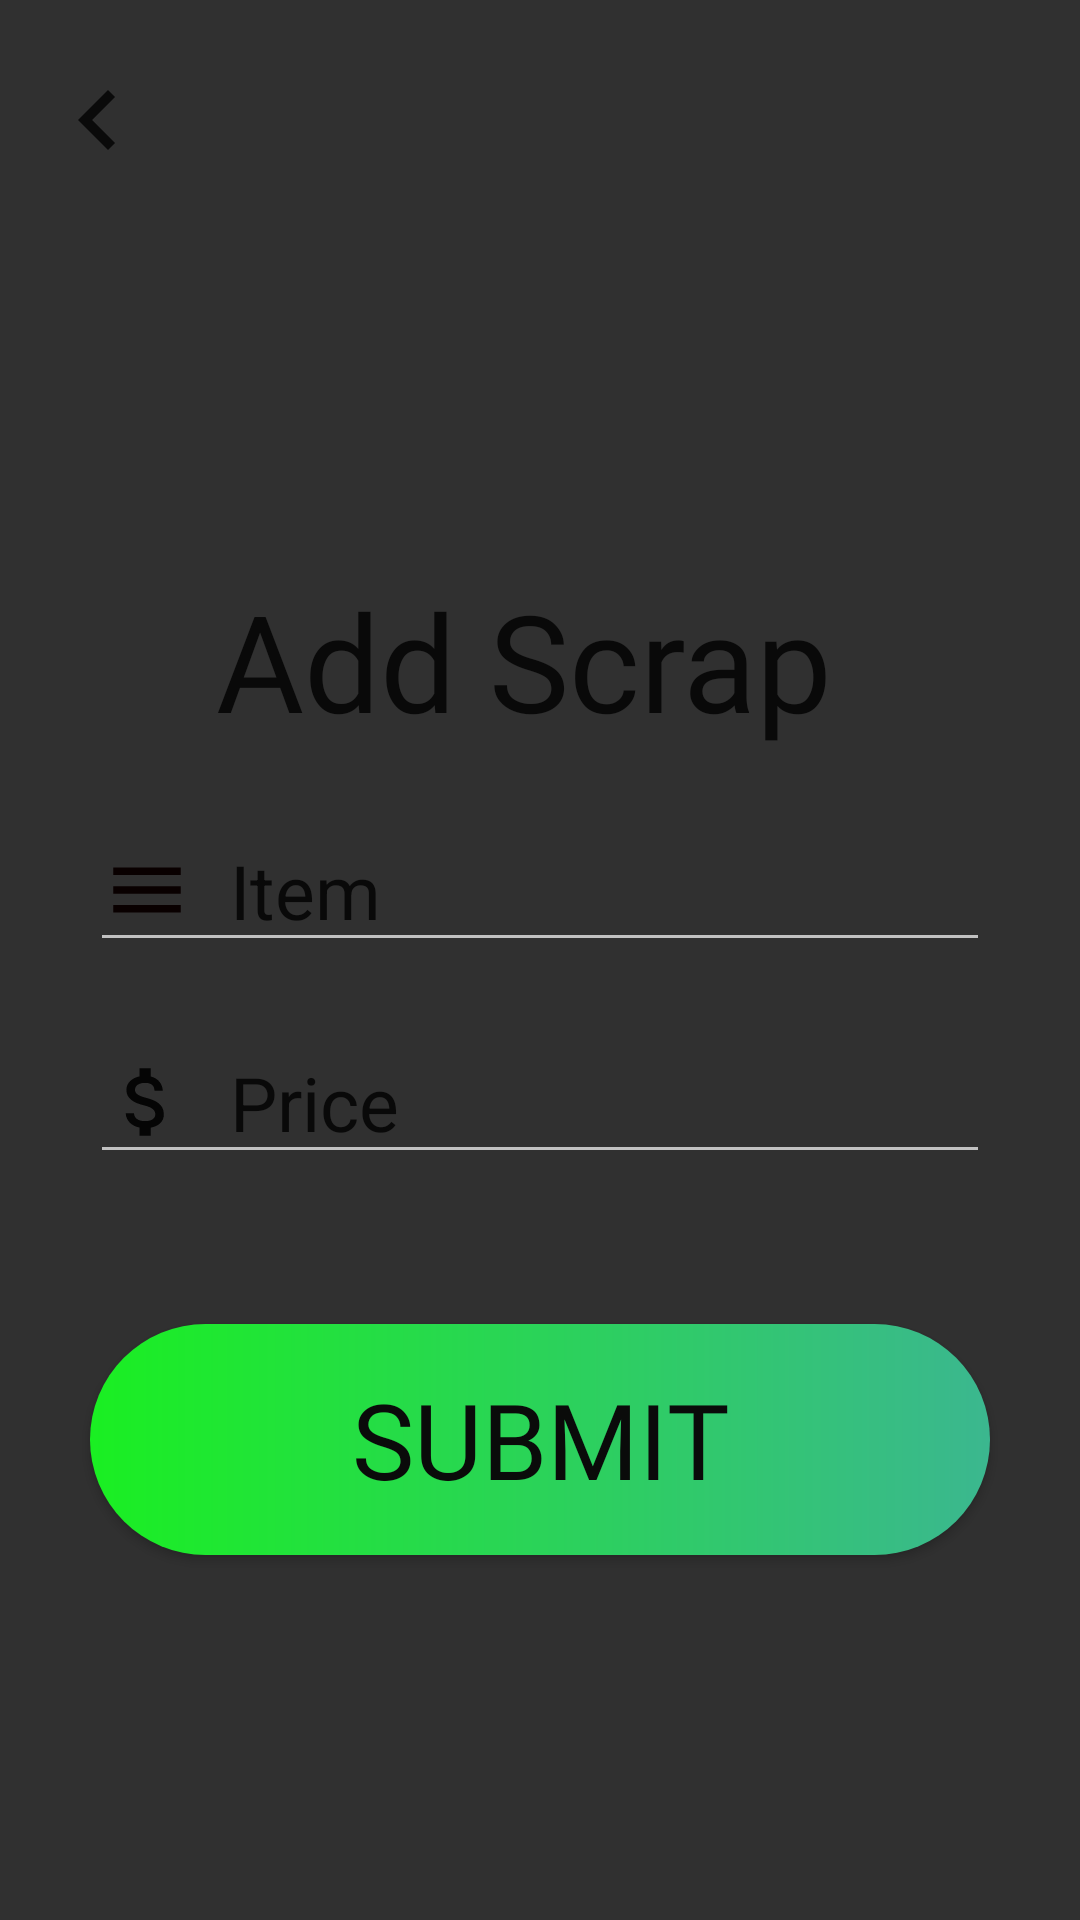

Where to tap for icons on this 1080x1920 app screen, as (x=x, y=y):
chevron left: (x=96, y=120)
